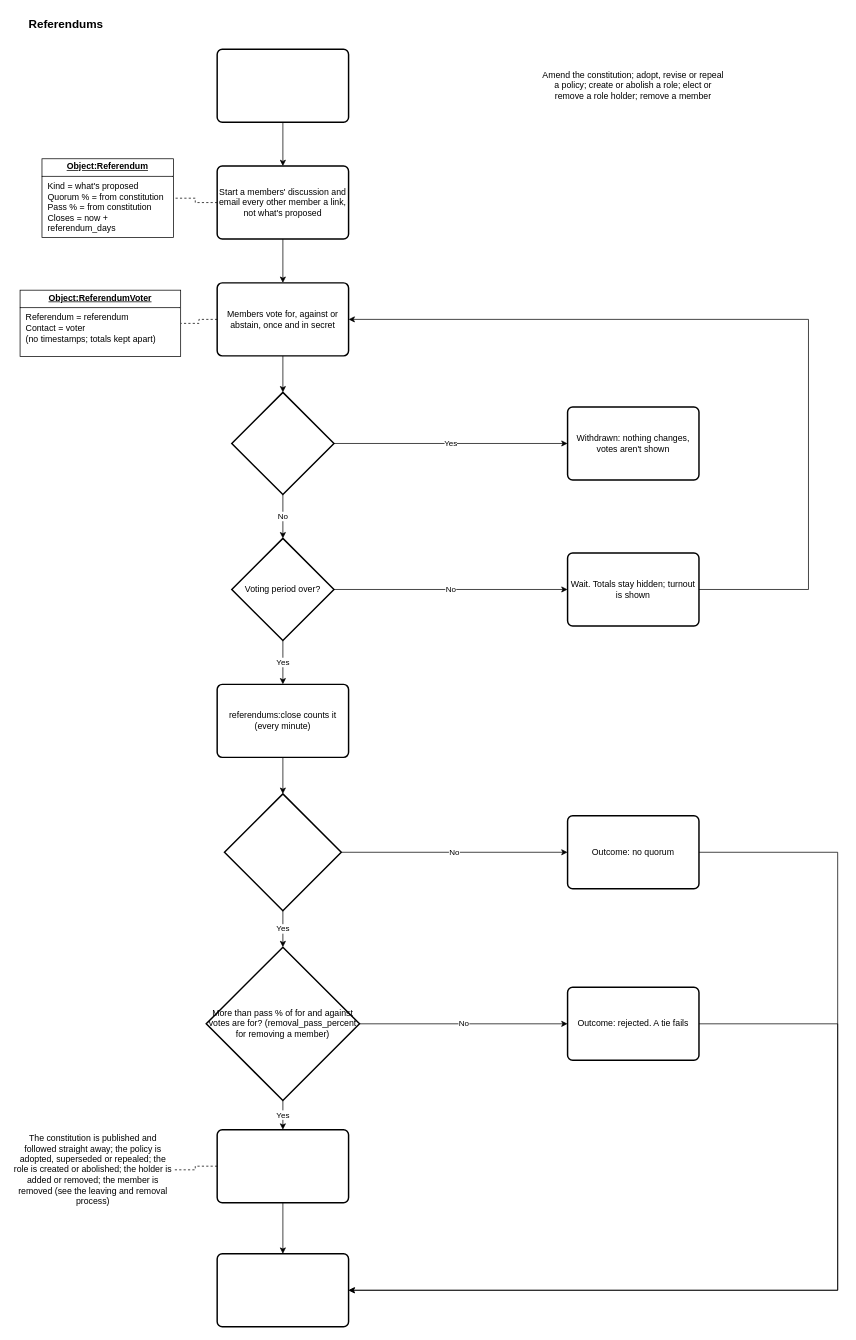
The diagram is 856 pixels wide and 1340 high, and some of its shapes have lost their labels. Each missing label, with the centre of its shape:
At least quorum % of members voted? (abstentions count): (282,852)
Email every member a link to the result, not what was decided: (282,1290)
Member proposes a change, with a reason: (282,85)
Outcome: passed. Put it into effect: (282,1166)
Proposer withdraws it?: (282,443)
